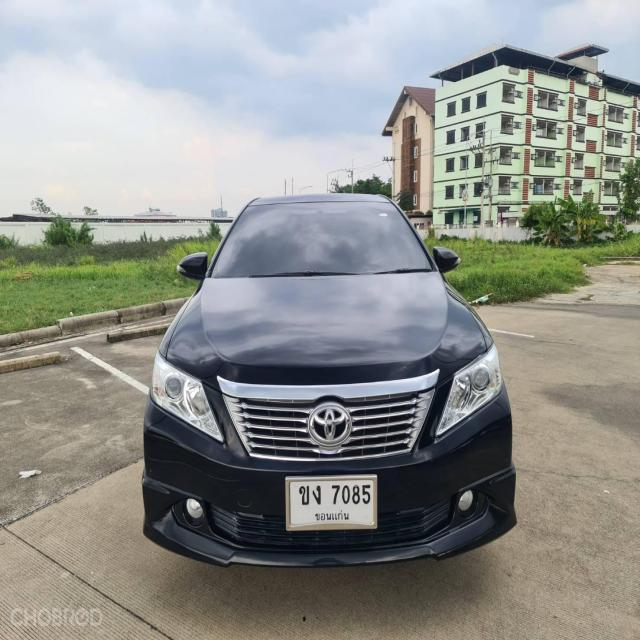license_plate: (282, 471, 380, 536)
